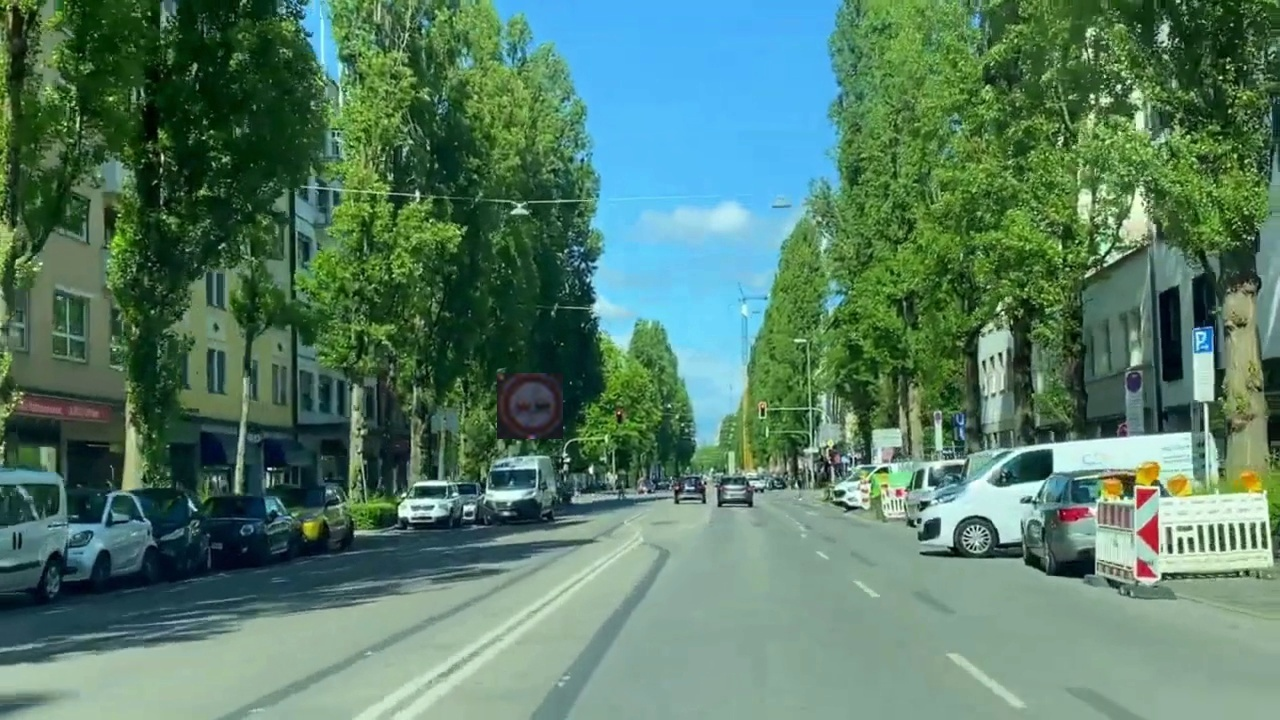No passing: (497, 373, 563, 439)
